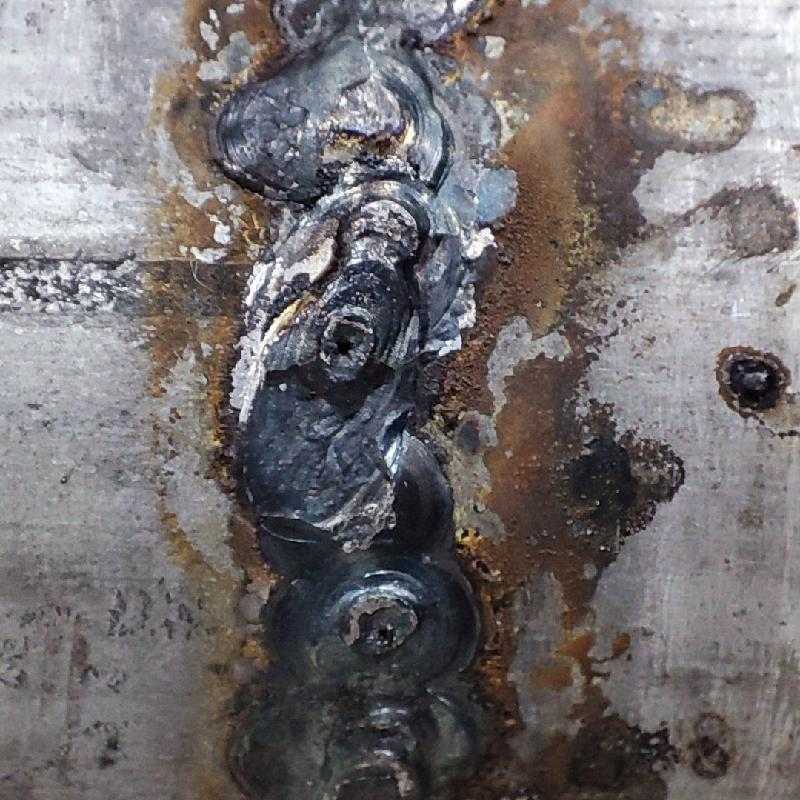Surface_pores: (344, 600, 413, 652), (320, 310, 373, 369)
wrong_size: (227, 1, 496, 797)
